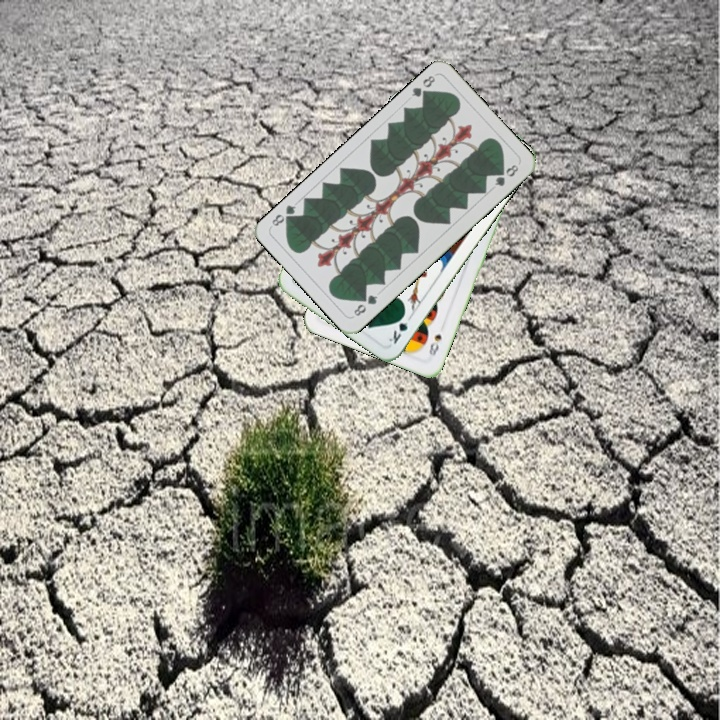G8: (407, 71, 438, 102), (349, 290, 380, 319)
GK: (384, 309, 414, 347)
S8: (425, 330, 444, 359)
